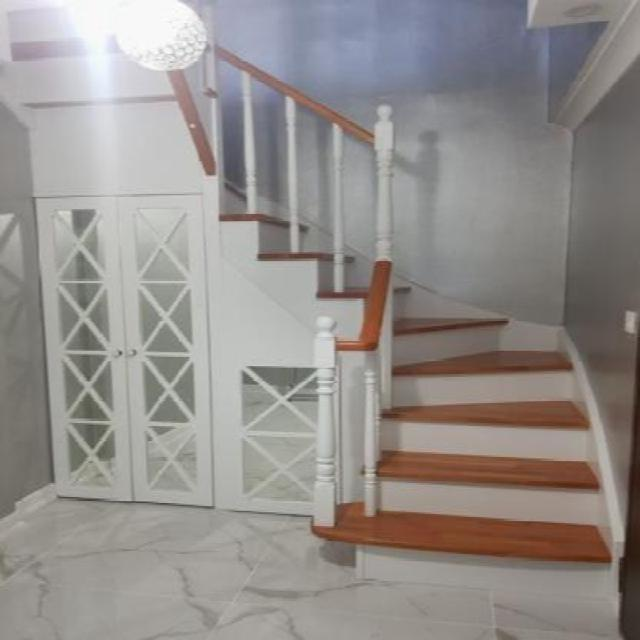stair: (261, 206, 614, 572)
